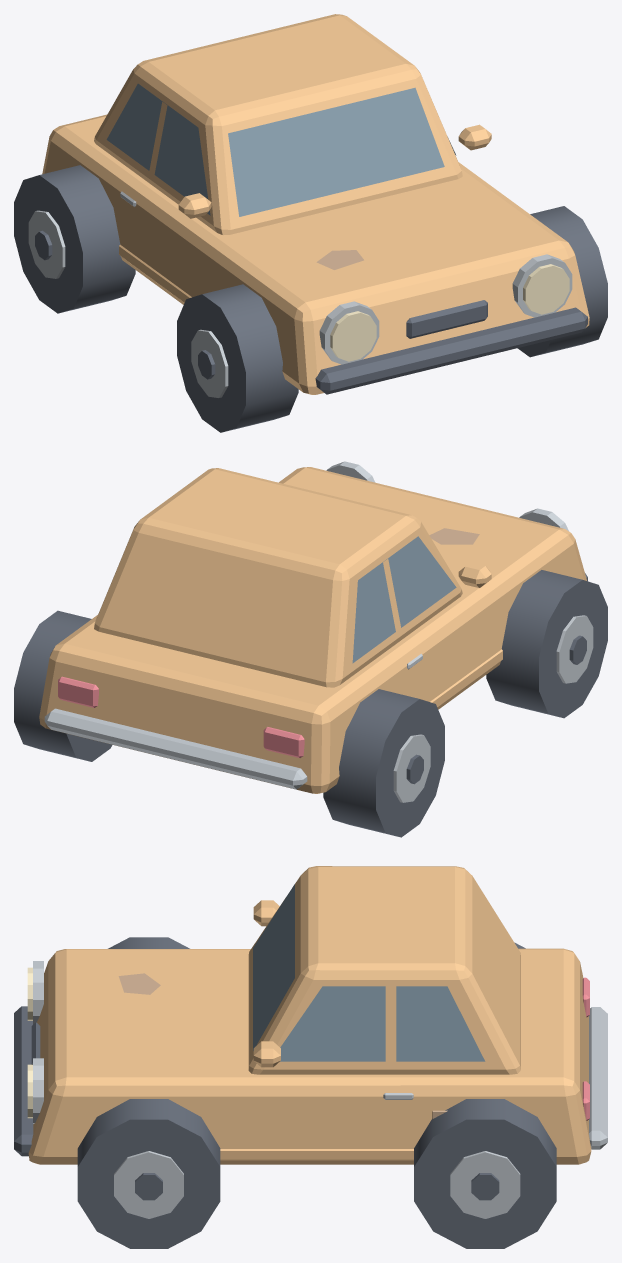
The model's file is rusty_hatchback.glb.
3 views of the same model, one above another, from view 1: azimuth 30°, elevation 25°; view 2: azimuth 150°, elevation 25°; view 3: azimuth 270°, elevation 25° (orthographic). The views are drawn at different scales.
Visible parts, largest first — view 1: rusty_hatchback_orange.001, rusty_hatchback_black.001, rusty_hatchback_glass.001, rusty_hatchback_gray.001, rusty_hatchback_yellow.001, rusty_hatchback_rust.001; view 2: rusty_hatchback_orange.001, rusty_hatchback_black.001, rusty_hatchback_gray.001, rusty_hatchback_glass.001, rusty_hatchback_red, rusty_hatchback_rust.001; view 3: rusty_hatchback_orange.001, rusty_hatchback_black.001, rusty_hatchback_glass.001, rusty_hatchback_gray.001, rusty_hatchback_rust.001, rusty_hatchback_yellow.001, rusty_hatchback_red.
Part boxes in pixels (x1=…): rusty_hatchback_orange.001: x1=42, y1=14, x2=589, y2=394; rusty_hatchback_black.001: x1=14, y1=165, x2=607, y2=432; rusty_hatchback_glass.001: x1=106, y1=83, x2=456, y2=216; rusty_hatchback_gray.001: x1=28, y1=191, x2=572, y2=397; rusty_hatchback_yellow.001: x1=330, y1=264, x2=569, y2=361; rusty_hatchback_rust.001: x1=316, y1=250, x2=363, y2=269; rusty_hatchback_orange.001: x1=39, y1=467, x2=586, y2=793; rusty_hatchback_black.001: x1=14, y1=570, x2=607, y2=837; rusty_hatchback_gray.001: x1=44, y1=461, x2=593, y2=802; rusty_hatchback_glass.001: x1=352, y1=536, x2=456, y2=663; rusty_hatchback_red: x1=58, y1=676, x2=304, y2=757; rusty_hatchback_rust.001: x1=429, y1=528, x2=479, y2=544; rusty_hatchback_orange.001: x1=28, y1=866, x2=591, y2=1164; rusty_hatchback_black.001: x1=14, y1=937, x2=556, y2=1248; rusty_hatchback_glass.001: x1=253, y1=884, x2=485, y2=1061; rusty_hatchback_gray.001: x1=33, y1=961, x2=607, y2=1218; rusty_hatchback_rust.001: x1=118, y1=973, x2=447, y2=1119; rusty_hatchback_yellow.001: x1=27, y1=967, x2=32, y2=1118; rusty_hatchback_red: x1=582, y1=977, x2=589, y2=1120.
Bounding box in the file's own units: 4.12 × 2.47 × 5.48.
